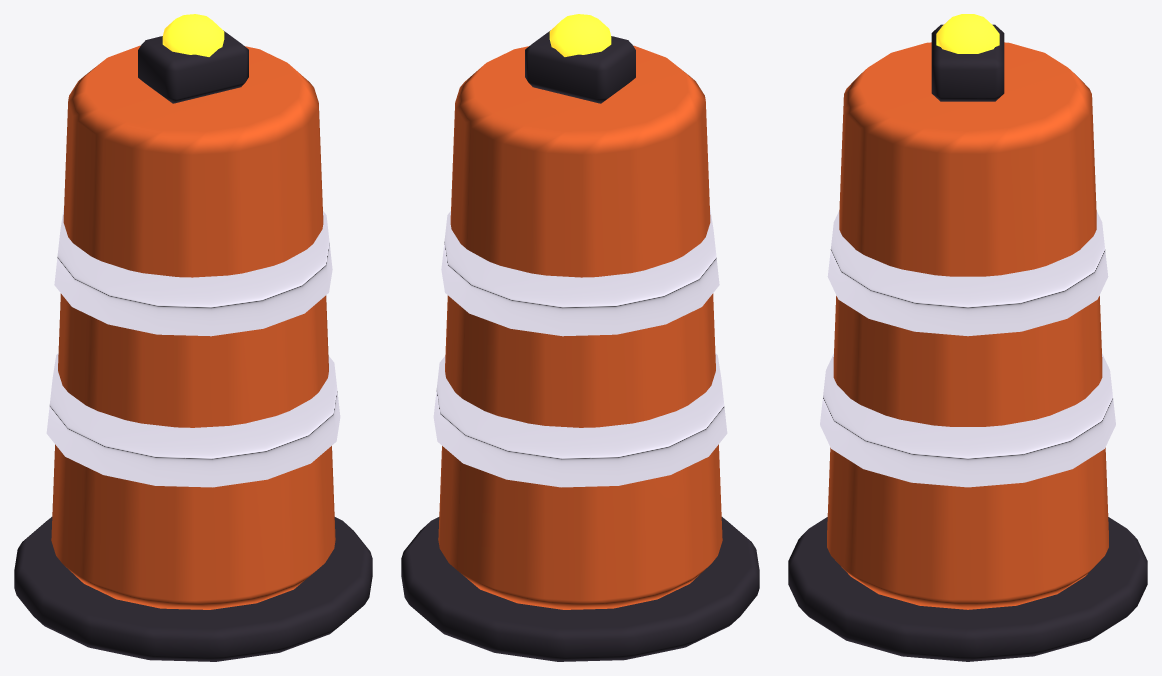
File: traffic_barrel.glb
3 renders of one model, left to right at view 1: azimuth 30°, elevation 25°; view 2: azimuth 150°, elevation 25°; view 3: azimuth 270°, elevation 25°, orthographic.
Visible parts, largest first — view 1: Barrel; view 2: Barrel; view 3: Barrel.
Part boxes in pixels (left/top/right/bottom): Barrel: left=14, top=14, right=372, bottom=661; Barrel: left=401, top=14, right=759, bottom=661; Barrel: left=788, top=14, right=1147, bottom=661.
Size of the model in its own units: 0.5941 by 1.04 by 0.5941.
